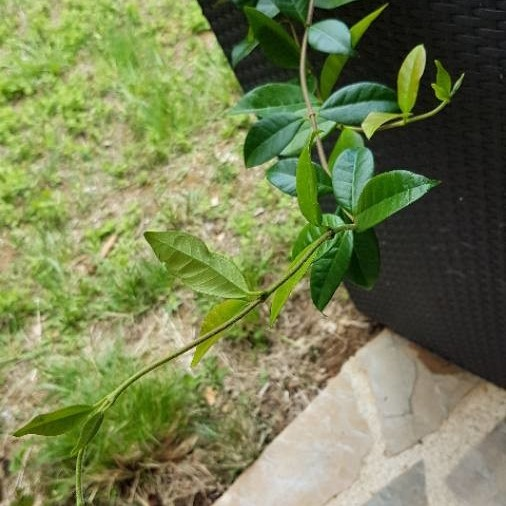obstacle: (25, 39, 425, 481)
